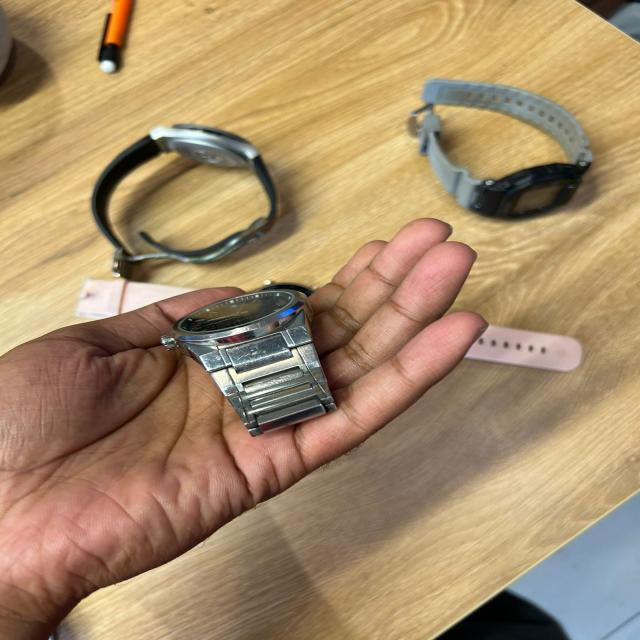watch: (407, 76, 594, 221), (159, 287, 339, 437)
